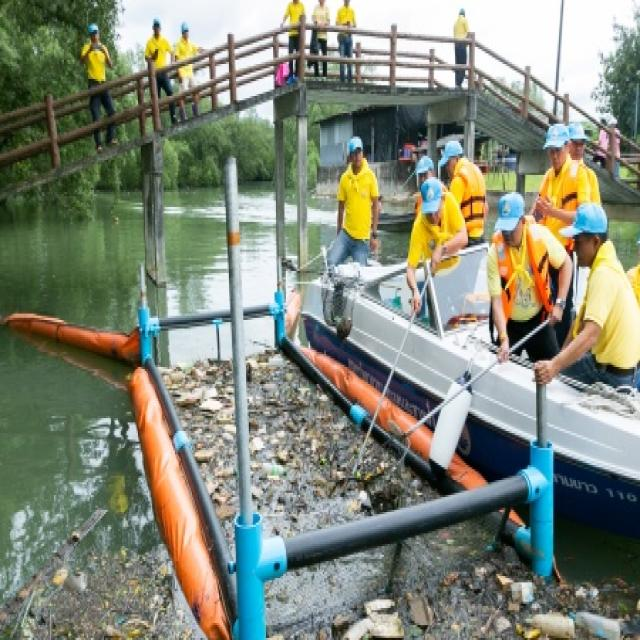-: (208, 384, 324, 539)
